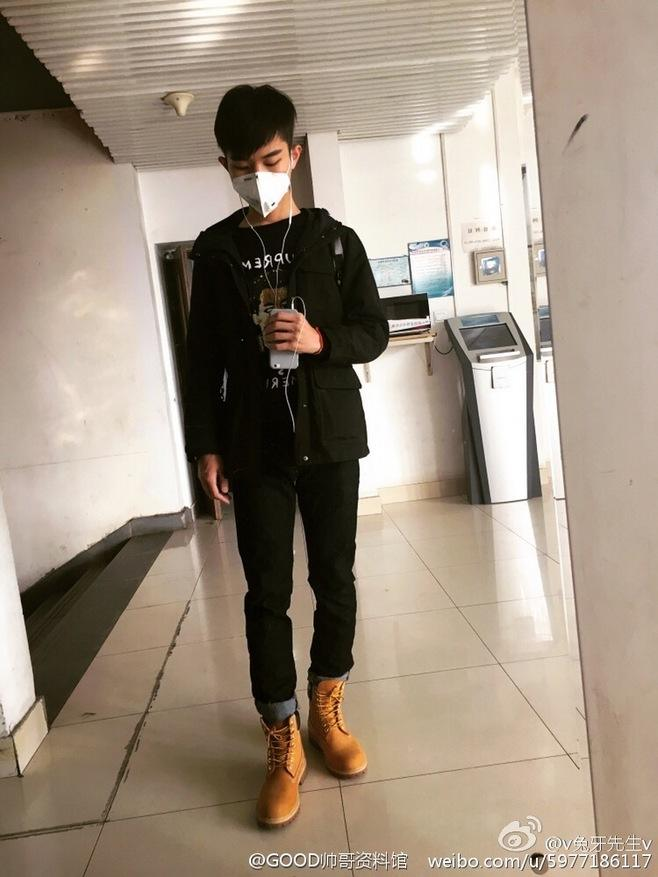person: (160, 76, 435, 785)
